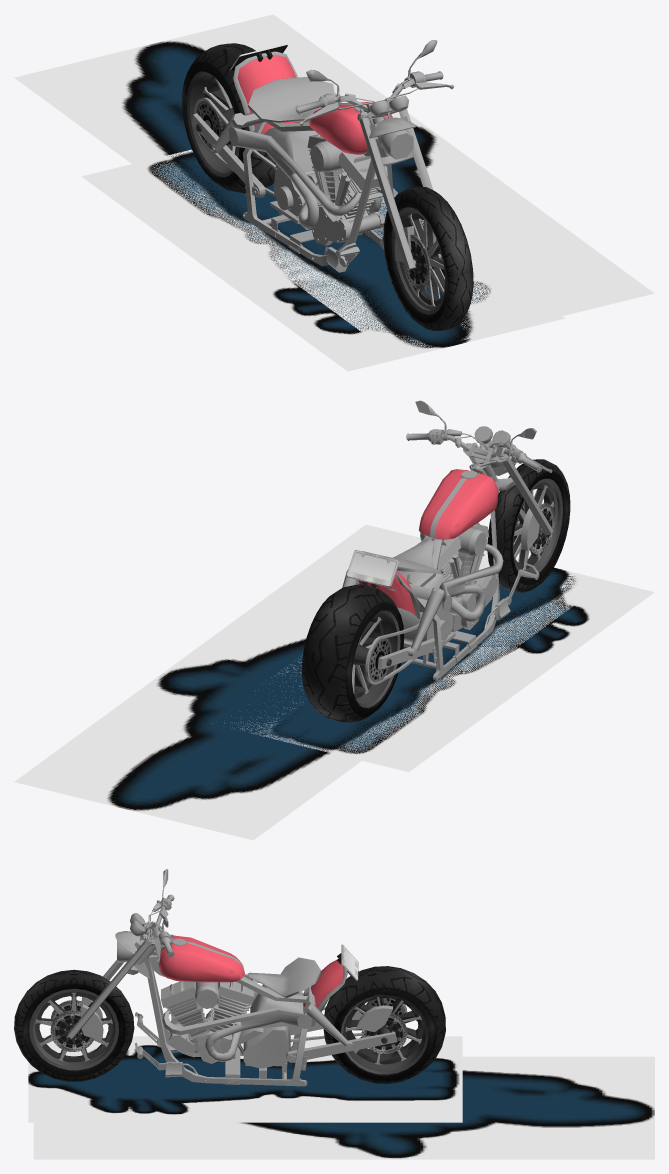
The model's file is bike1.fbx.
3 renders of one model, top to bottom at view 1: azimuth 30°, elevation 25°; view 2: azimuth 150°, elevation 25°; view 3: azimuth 270°, elevation 25°, orthographic. The views are drawn at different scales.
Parts seen in each view (by area): view 1: Shadow_SunSet, Shadow_DayLight, reflec, SteeringWheel, Tyre_F, Tyre_B_8, Rim_F, Body, Rim_B_8; view 2: Shadow_SunSet, Shadow_DayLight, reflec, Tyre_B_8, SteeringWheel, Body, Tyre_F, Rim_B_8, Rim_F, Plate; view 3: Shadow_SunSet, Shadow_DayLight, reflec, Tyre_B_8, Tyre_F, Rim_F, Rim_B_8, SteeringWheel, Body.
Boxes of the visible parts, bbox=[...] form: Shadow_SunSet: bbox=[14, 14, 654, 356]; Shadow_DayLight: bbox=[81, 149, 564, 371]; reflec: bbox=[192, 51, 397, 272]; SteeringWheel: bbox=[295, 40, 454, 269]; Tyre_F: bbox=[383, 186, 473, 330]; Tyre_B_8: bbox=[182, 43, 275, 193]; Rim_F: bbox=[391, 207, 445, 314]; Body: bbox=[237, 55, 392, 154]; Rim_B_8: bbox=[187, 71, 239, 177]; Shadow_SunSet: bbox=[14, 524, 603, 840]; Shadow_DayLight: bbox=[224, 550, 654, 771]; reflec: bbox=[342, 463, 539, 684]; Tyre_B_8: bbox=[302, 584, 404, 722]; SteeringWheel: bbox=[406, 400, 552, 550]; Body: bbox=[358, 469, 498, 616]; Tyre_F: bbox=[487, 459, 570, 592]; Rim_B_8: bbox=[352, 610, 400, 707]; Rim_F: bbox=[513, 478, 562, 577]; Plate: bbox=[346, 550, 399, 587]; Shadow_SunSet: bbox=[33, 1056, 654, 1159]; Shadow_DayLight: bbox=[28, 1036, 462, 1122]; reflec: bbox=[134, 934, 407, 1086]; Tyre_B_8: bbox=[323, 966, 445, 1083]; Tyre_F: bbox=[14, 969, 134, 1081]; Rim_F: bbox=[29, 989, 118, 1070]; Rim_B_8: bbox=[341, 995, 428, 1074]; SteeringWheel: bbox=[67, 869, 174, 1040]; Body: bbox=[159, 935, 343, 1021].
Size of the model in its own units: 161 by 114 by 354.
